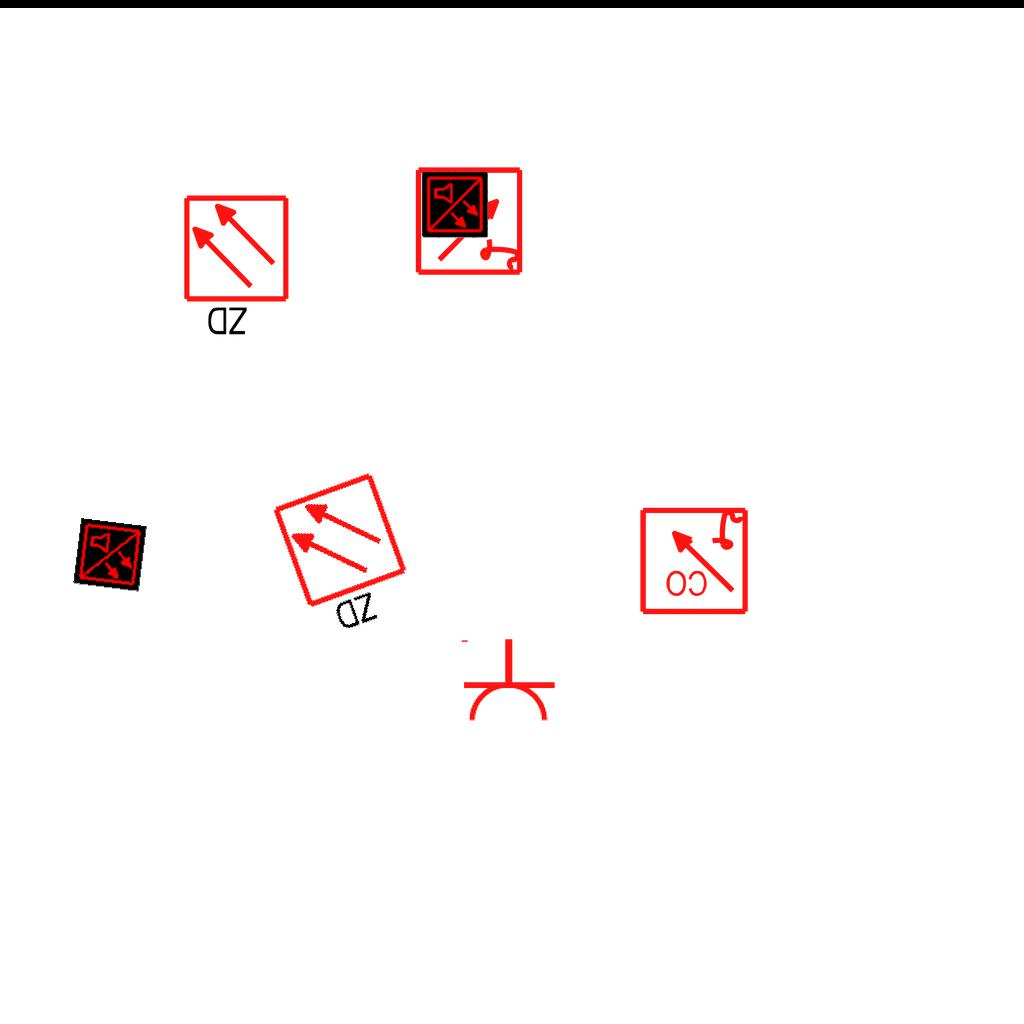OKW_Multisensormelder_(Kombination_optischer_Rauch-Kahlenmonoxid_Waerme-Melder): (73, 518, 147, 592), (422, 172, 488, 238)
ROA_Rauchmelder_optisch_mit_Signalgeber_(Sockelsirene): (637, 503, 750, 616), (414, 164, 527, 277)
Schukosteckdose_einfach: (457, 637, 557, 724)
ZD_Melder_in_Zwischendecke_mit_Revisionsoeffnung_mind_40_x_40_cm: (268, 467, 428, 648), (181, 193, 295, 342)
